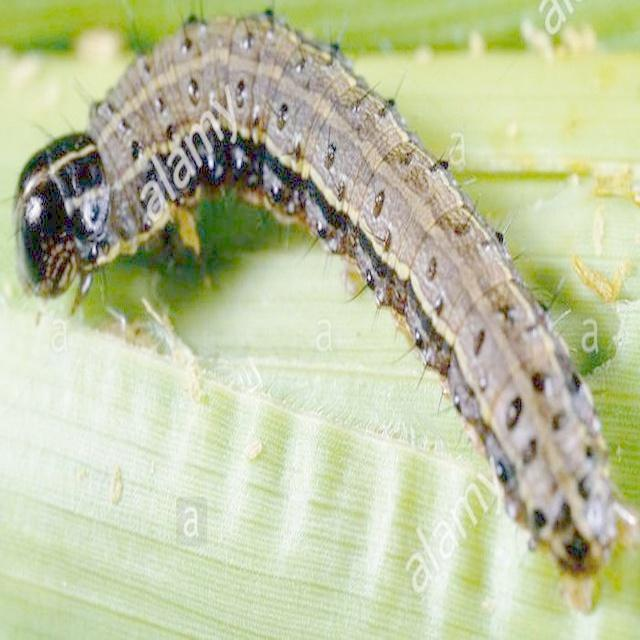Plaga: (20, 18, 615, 568)
